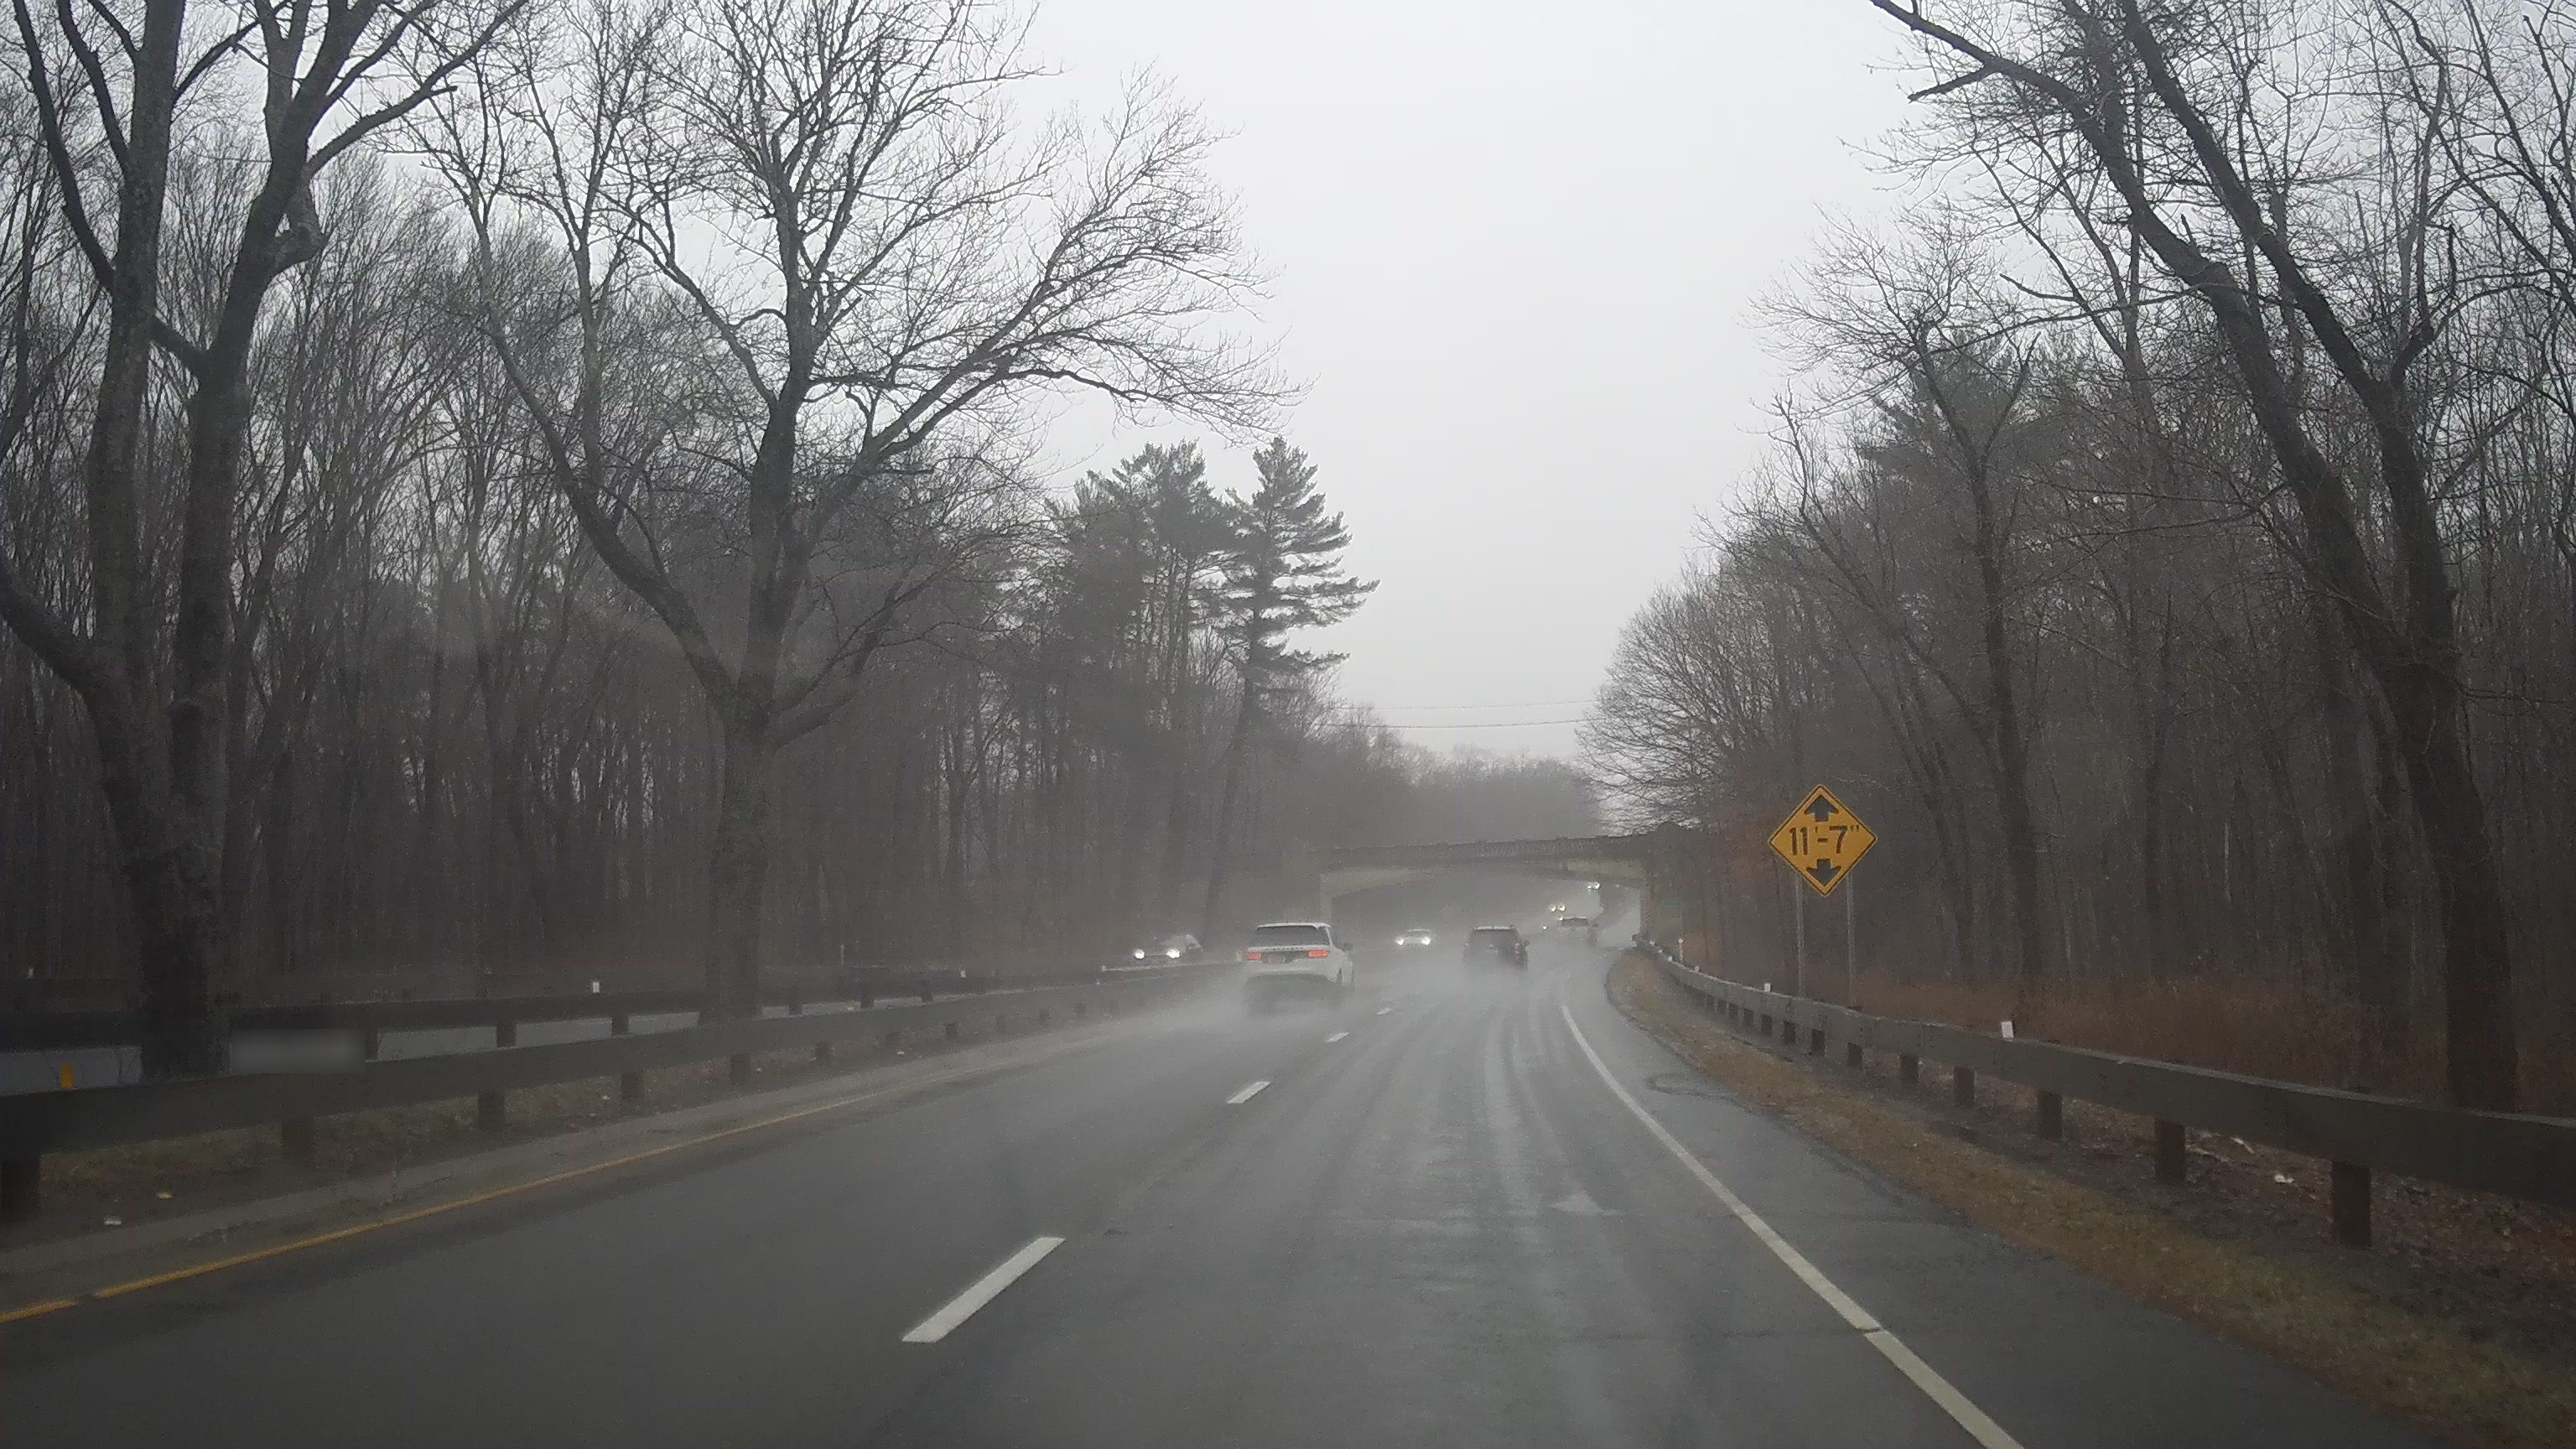low-clearance-sign: (1767, 784, 1879, 897)
